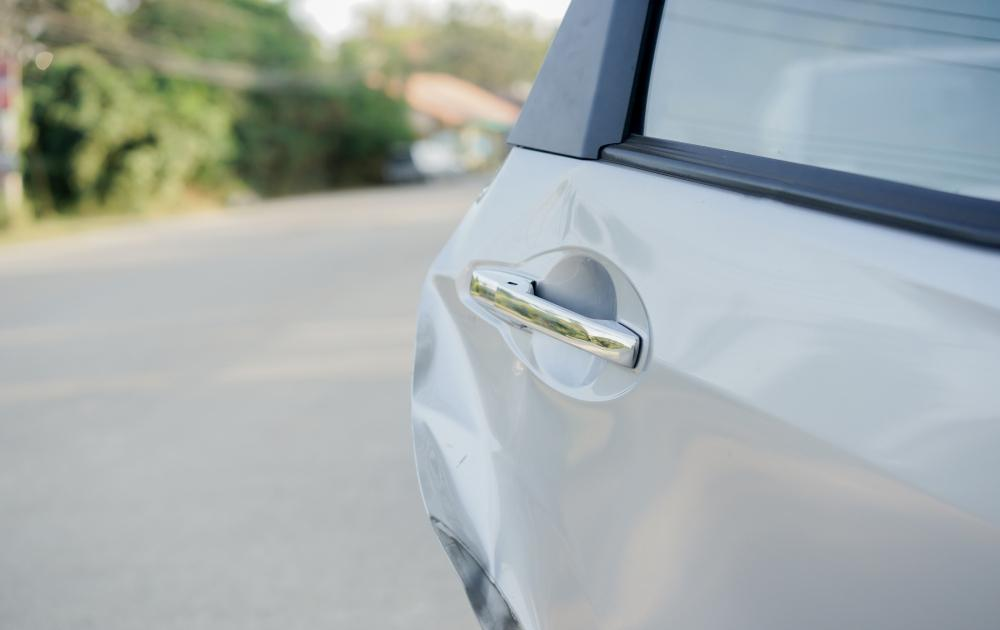dent: (417, 275, 695, 630)
